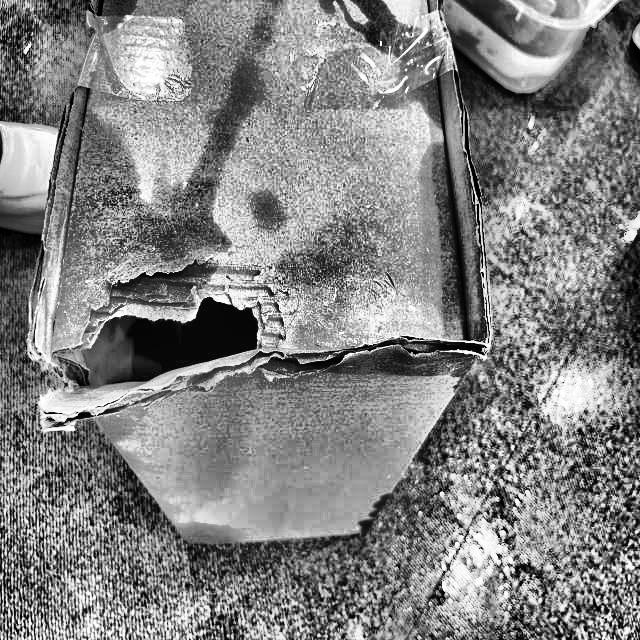box: (21, 0, 498, 545)
hole: (0, 301, 287, 395)
wet: (64, 123, 284, 332)
